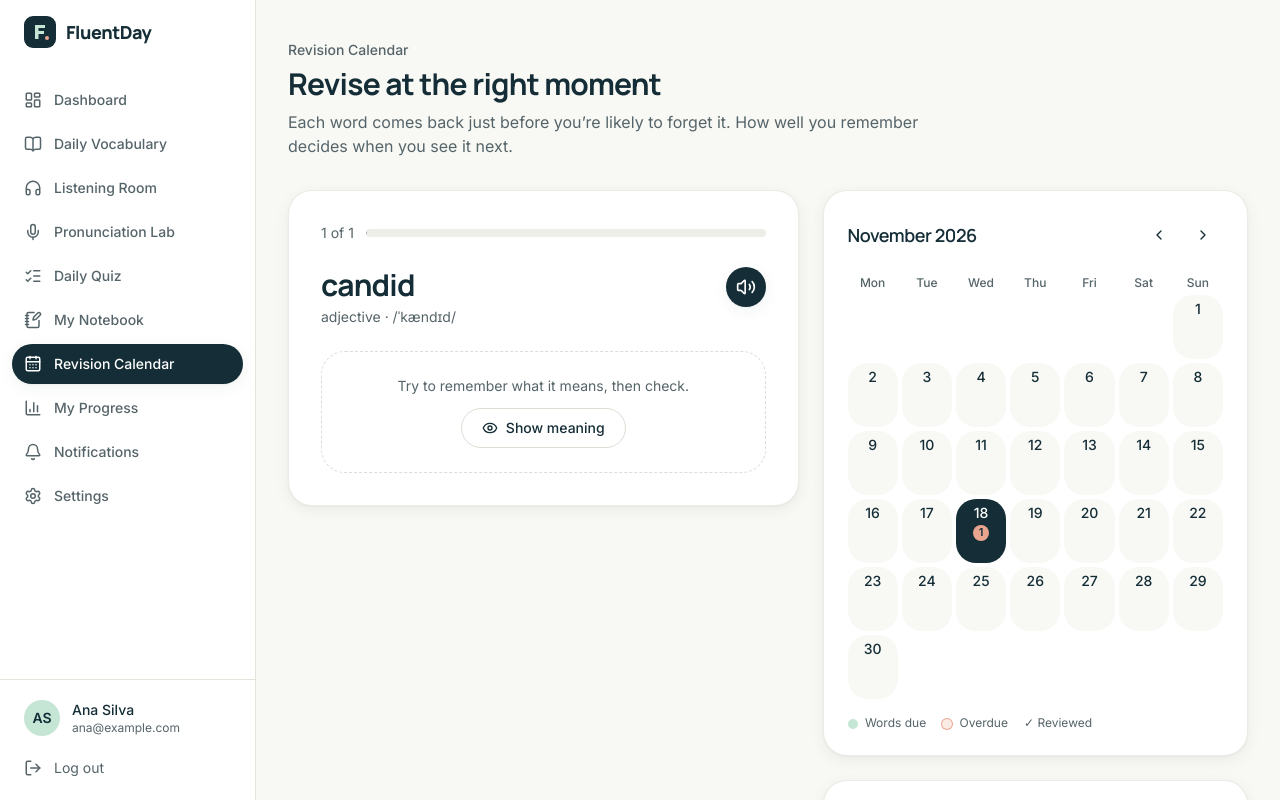
Test: revision › reveals the meaning, rates the word and finishes the session
The width and height of the screenshot is (1280, 800).
Expected: the heading "candid" is shown, [321,264,415,305]
Expected: the text "truthful and straightforward; frank." is not shown
What coordinates should you click on to do the following:
click the button "Show meaning"
I would click on:
 (543, 428)
Its box is [461,408,626,448].
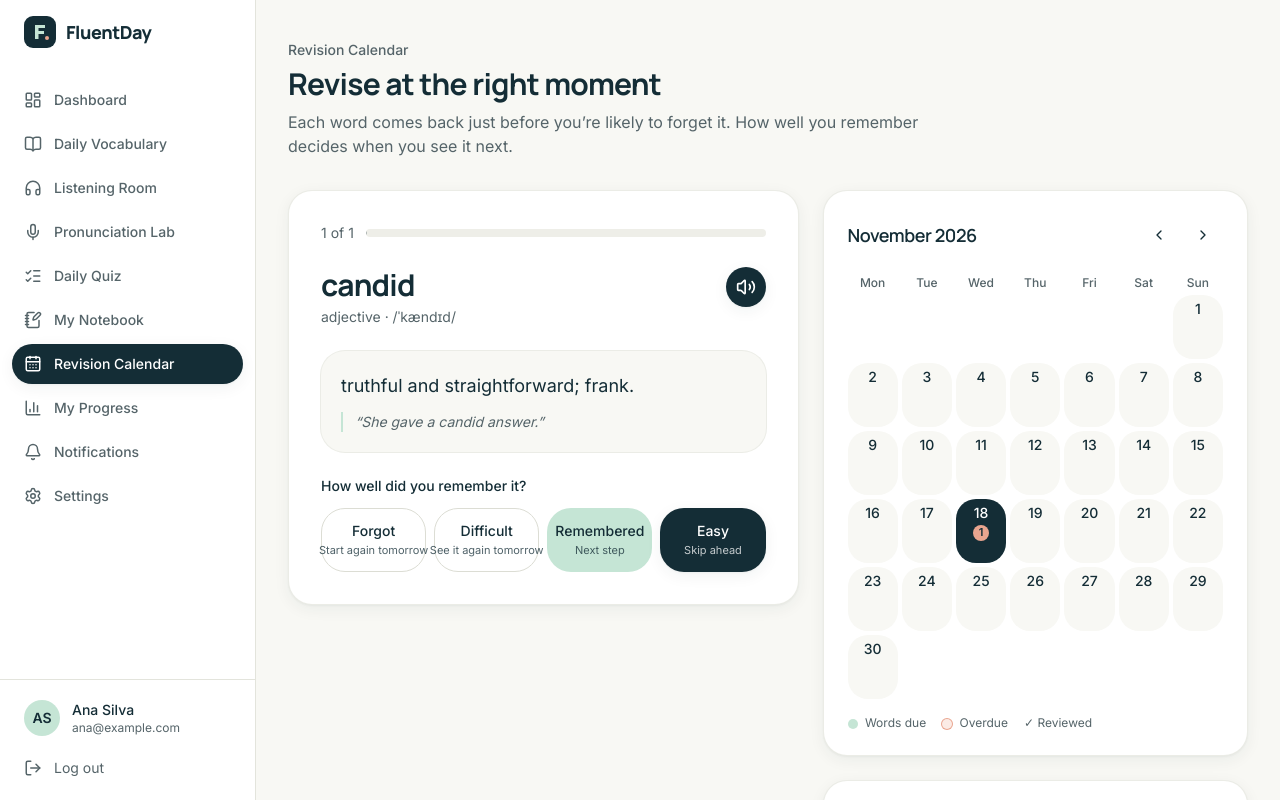
Expected: the text "truthful and straightforward; frank." is shown, [341,375,634,396]
What coordinates should you click on to do the following:
click the button "Remembered Next step"
I would click on:
 (600, 540)
Its box is [547,508,652,572].
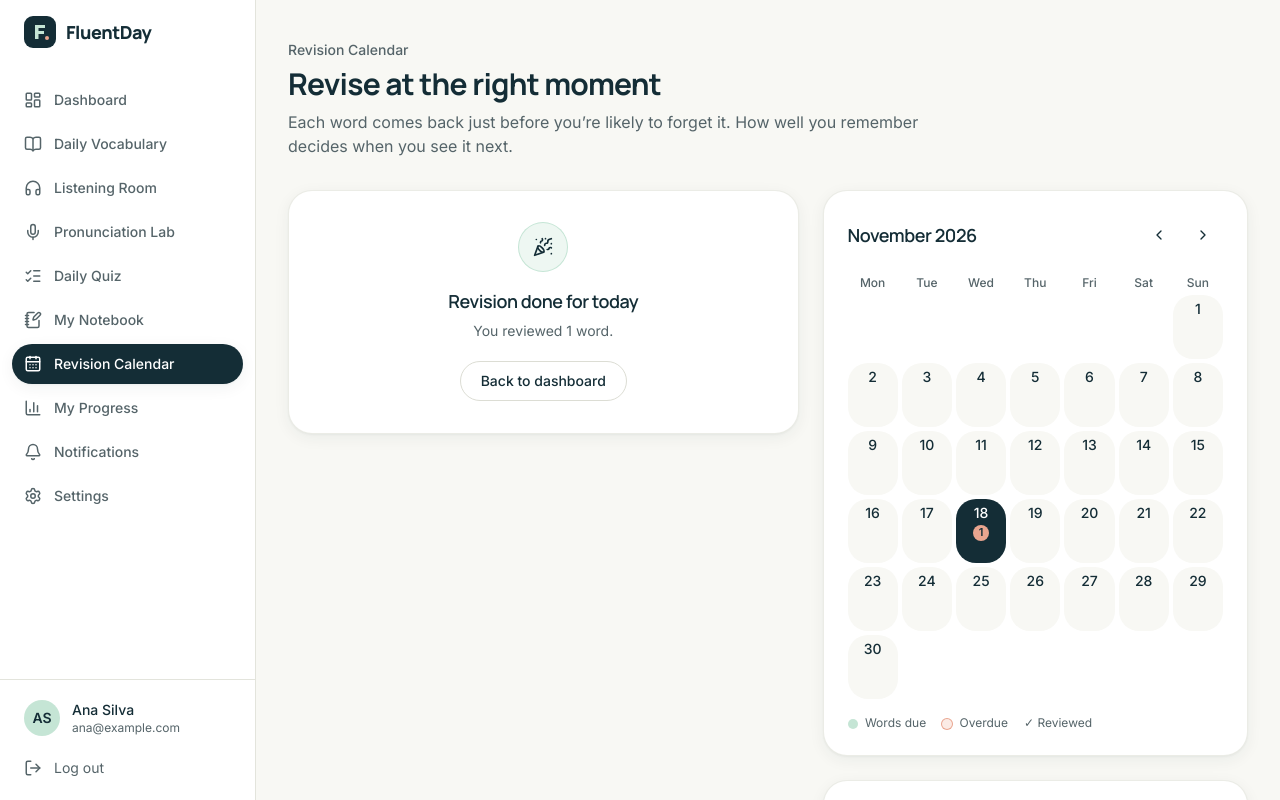
Expected: the heading "Revision done for today" is shown, [448,287,638,315]
